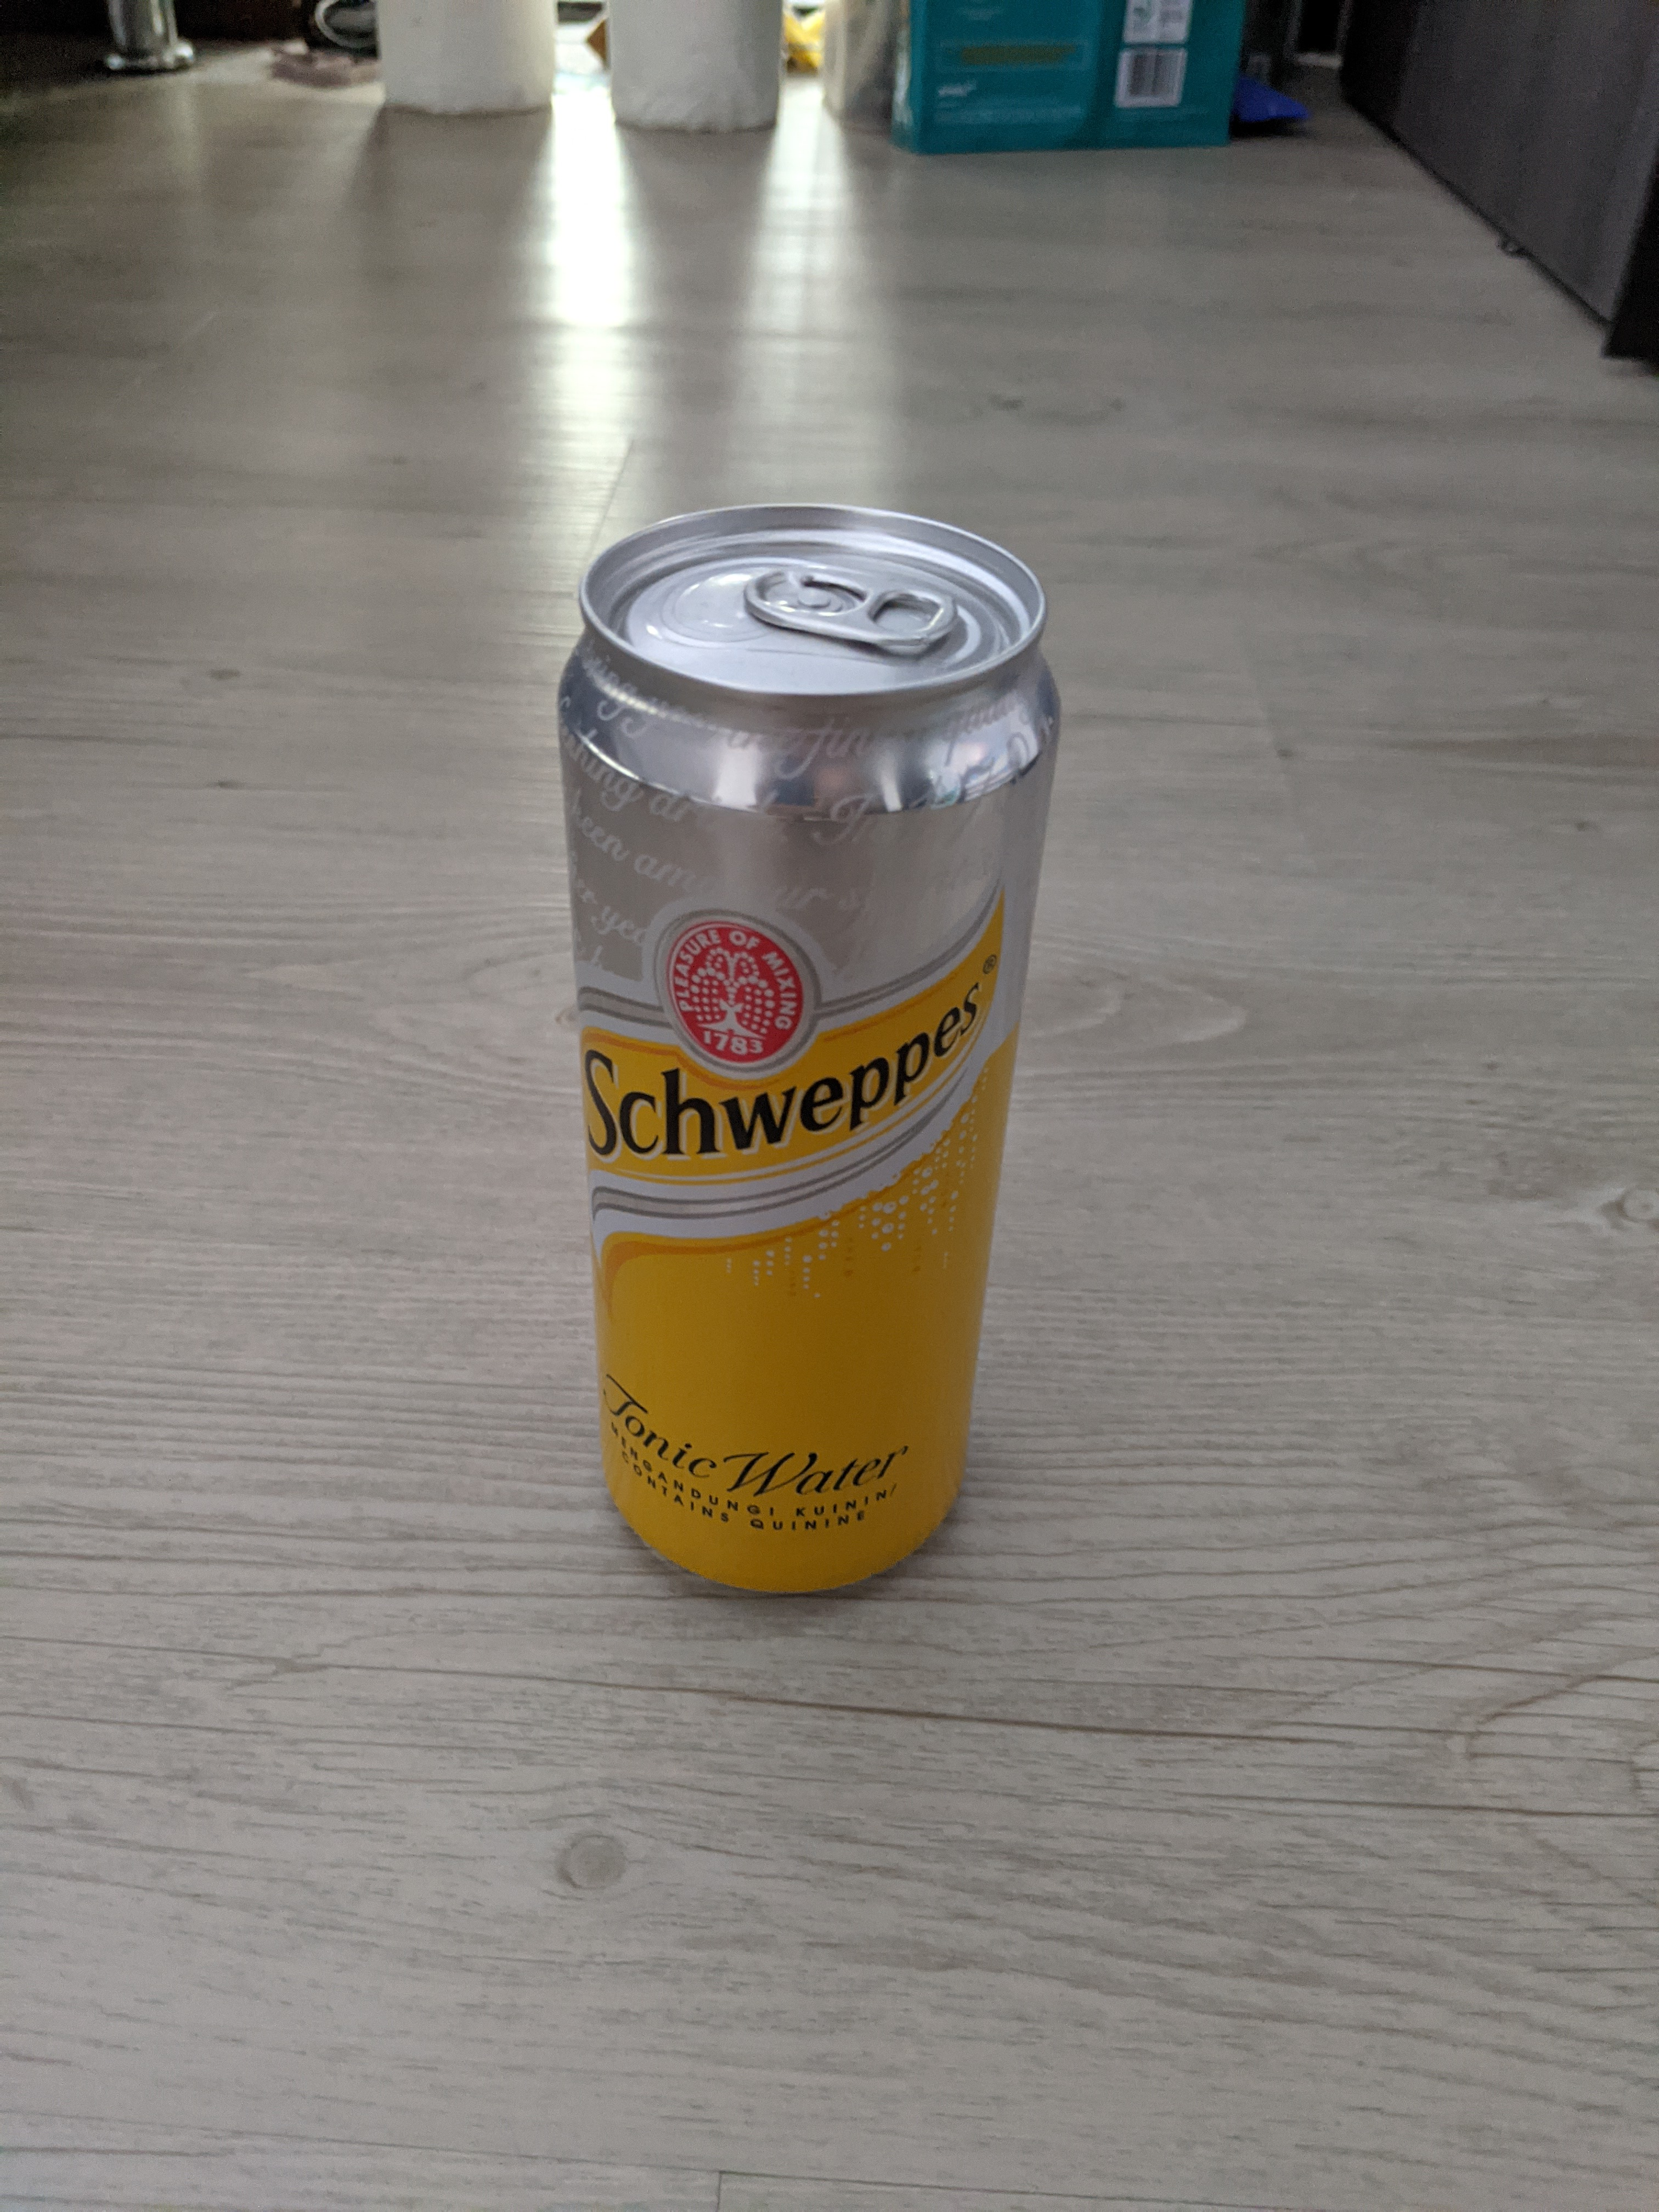schweppes drink can tonic water: (533, 482, 1086, 1635)
